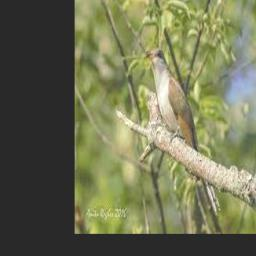Cuckoo: (146, 48, 220, 217)
